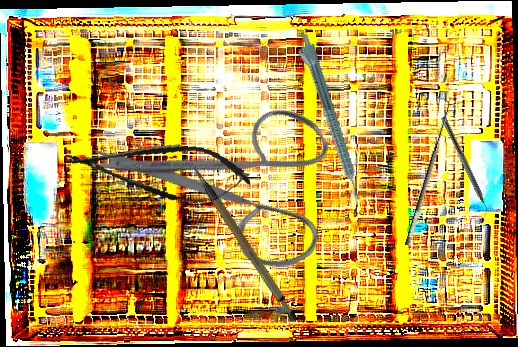Chopper: (434, 115, 495, 223)
Handpiece: (291, 32, 365, 204)
Hook Surgical: (393, 96, 456, 247)
Iris Scissors: (80, 46, 371, 330)
Micro Scissor: (61, 130, 254, 211)
Scalpel Handle: (191, 153, 302, 333)
